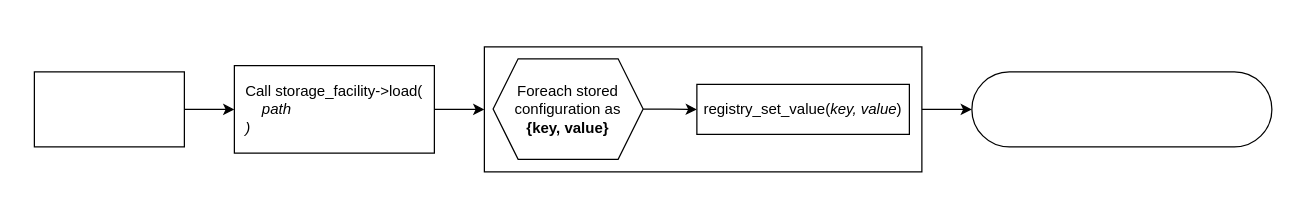
This 1305x218 diagram has some shape labels left out. Here are the shapes that lost their labels. From the top down, the centre of each, then its label:
(108,109): registry_store_load( "sys" )
(1121,109): All configurations are loaded from storage
